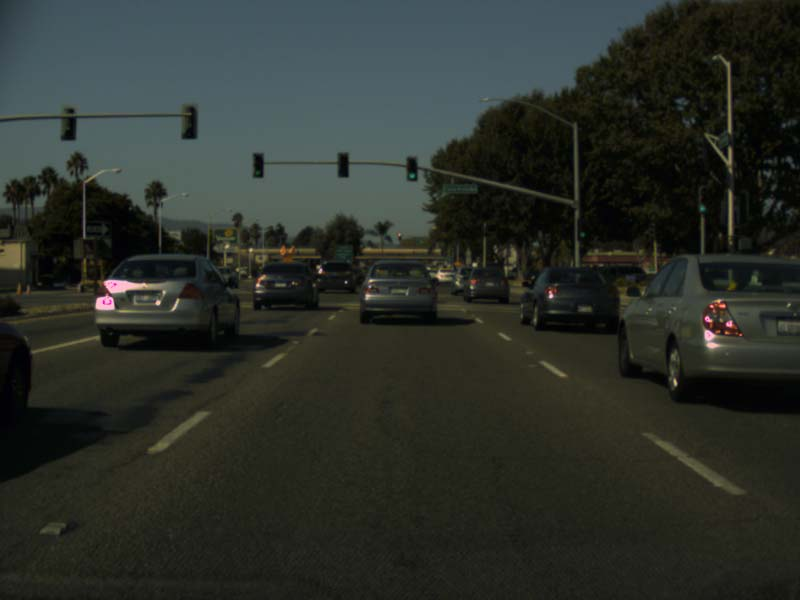Green: (698, 187, 709, 213), (253, 153, 264, 177), (577, 217, 587, 241), (407, 156, 416, 180)
